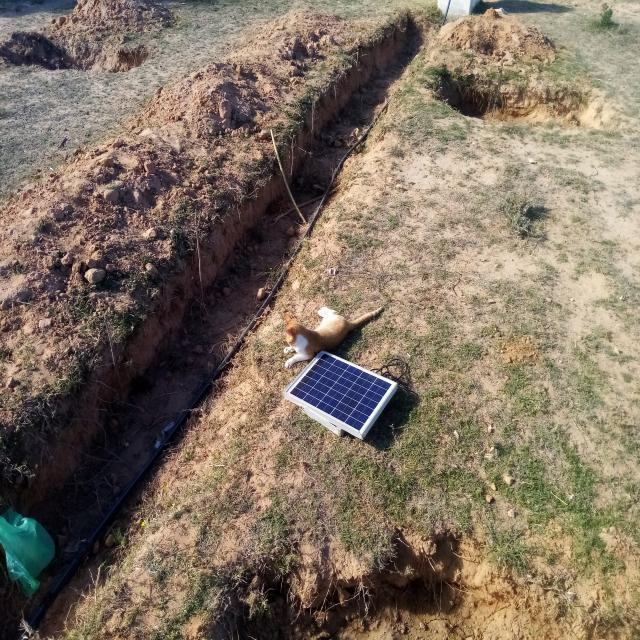no faulty: (285, 351, 398, 437)
